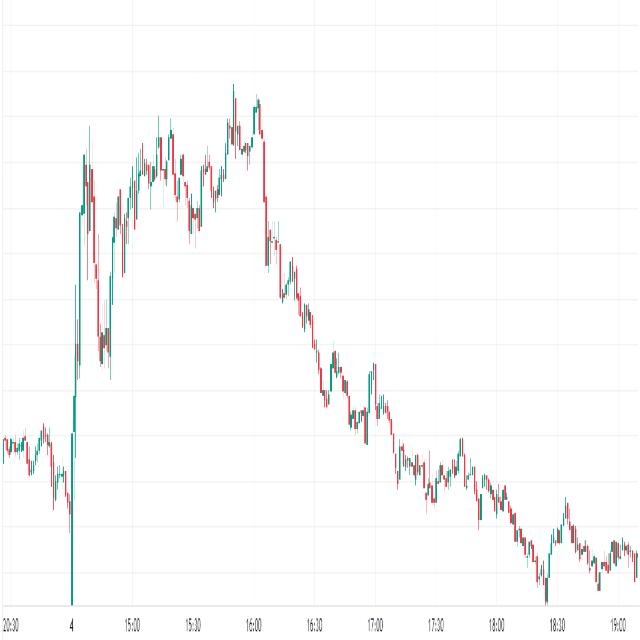Rounding-Top: (126, 103, 200, 229)
